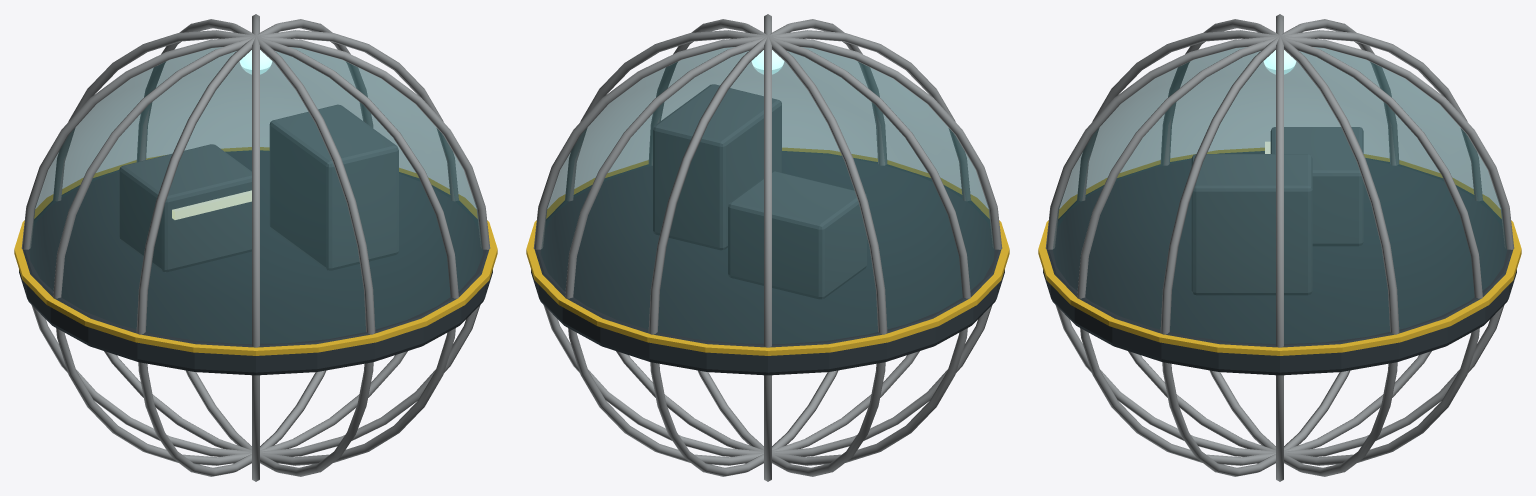
File: mega_dome.fbx
The picture shows the model from 3 angles, left to right: view 1: azimuth 30°, elevation 25°; view 2: azimuth 150°, elevation 25°; view 3: azimuth 270°, elevation 25°; orthographic projection.
Visible parts, largest first — view 1: mega_dome; view 2: mega_dome; view 3: mega_dome.
Boxes of the visible parts, <box> form: mega_dome: <box>14,14,497,481</box>; mega_dome: <box>526,14,1009,481</box>; mega_dome: <box>1038,14,1521,481</box>.
Size of the model in its own units: 5.2 by 5.04 by 5.2.
